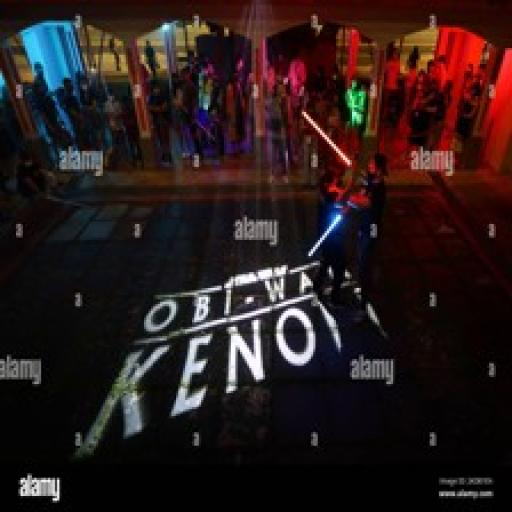lightsaber: (308, 206, 348, 256)
sith saber: (298, 110, 361, 174)
